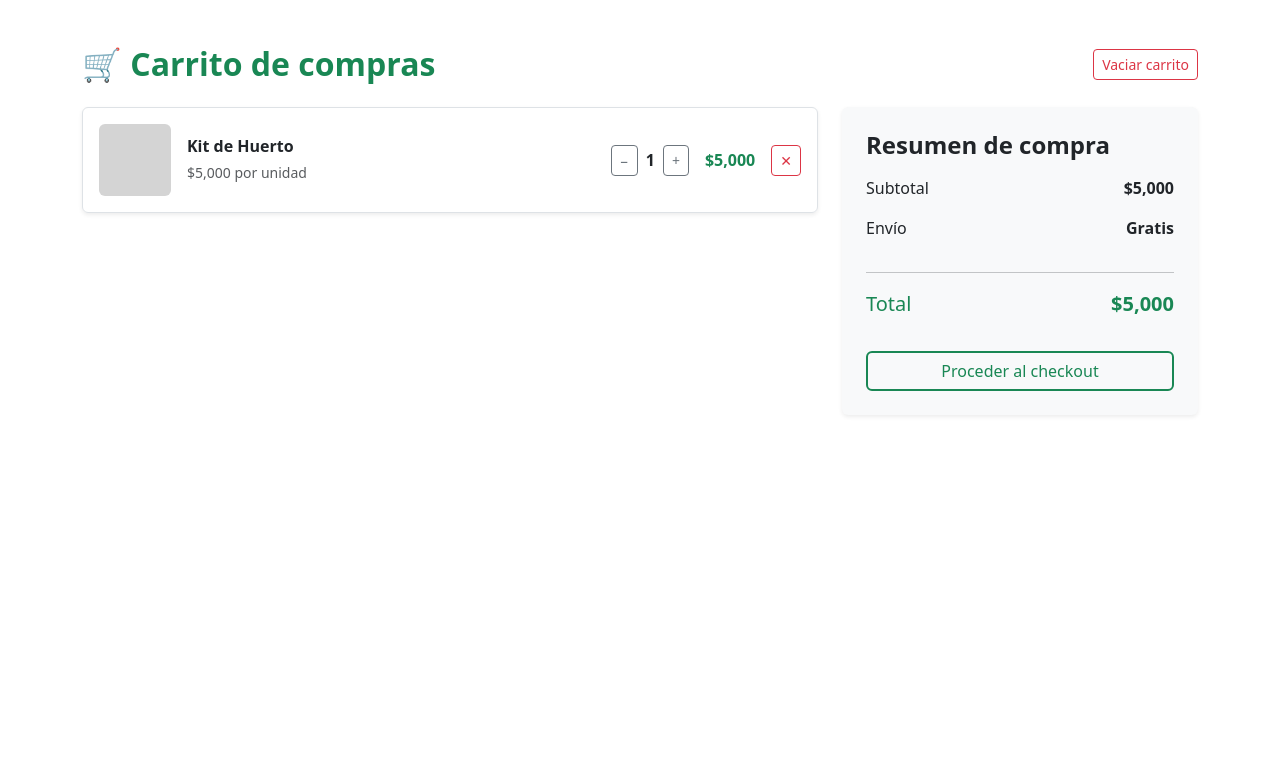
Scenario: Carrito › rechaza una entrega programada sin fecha válida: 2000-01-01
The width and height of the screenshot is (1280, 772).
Step 1. Click the button "Proceder al checkout" → (1020, 371), box [866,351,1174,391]
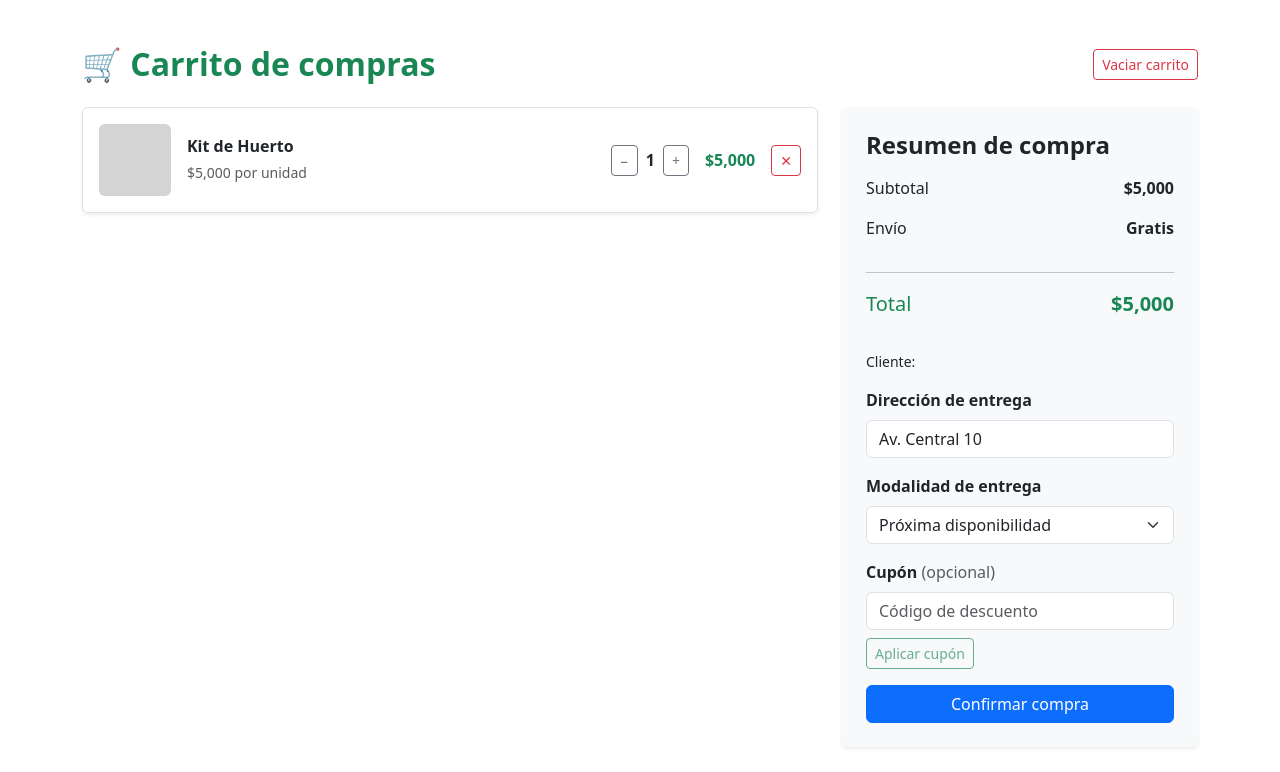
Step 2. Select "Programar entrega" in the dropdown labelled "Modalidad de entrega" → (1020, 525), box [866,506,1174,544]
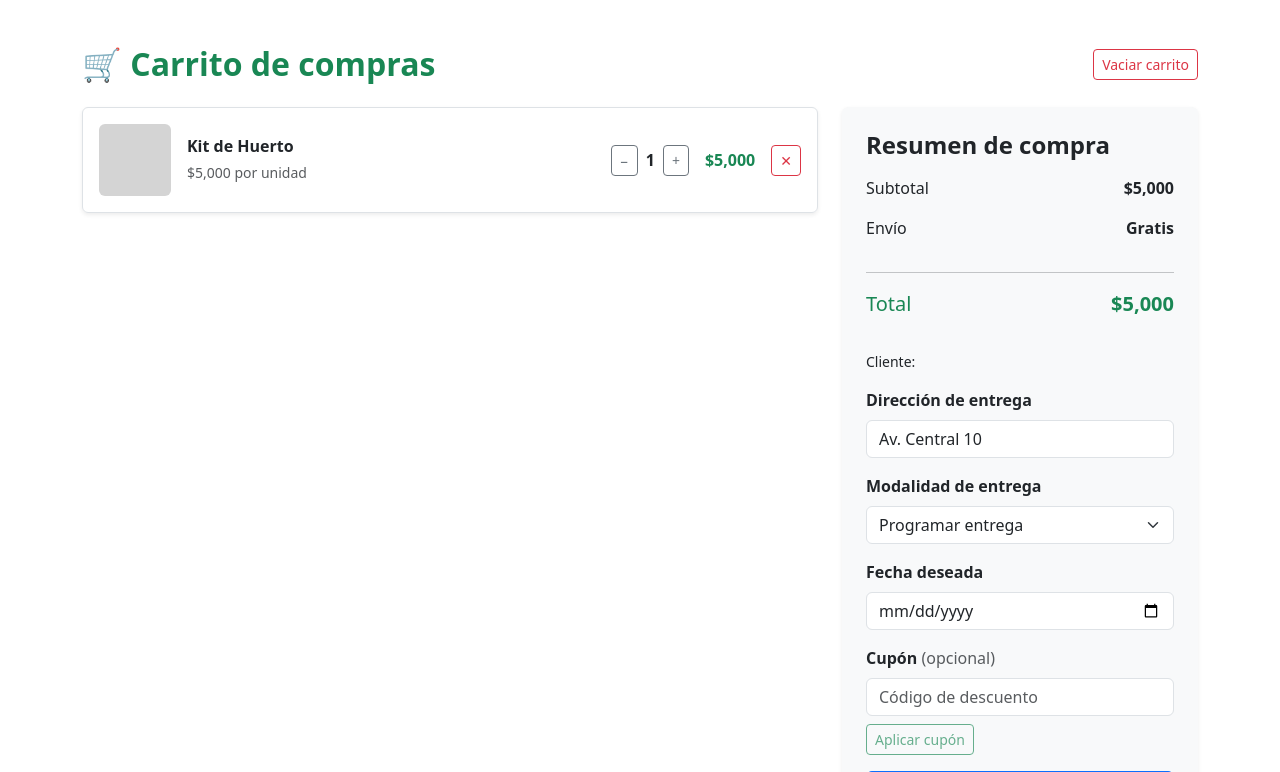
Step 3. Type "2000-01-01" into the date field labelled "Fecha deseada" → (1020, 611), box [866,592,1174,630]
(page scrolled)
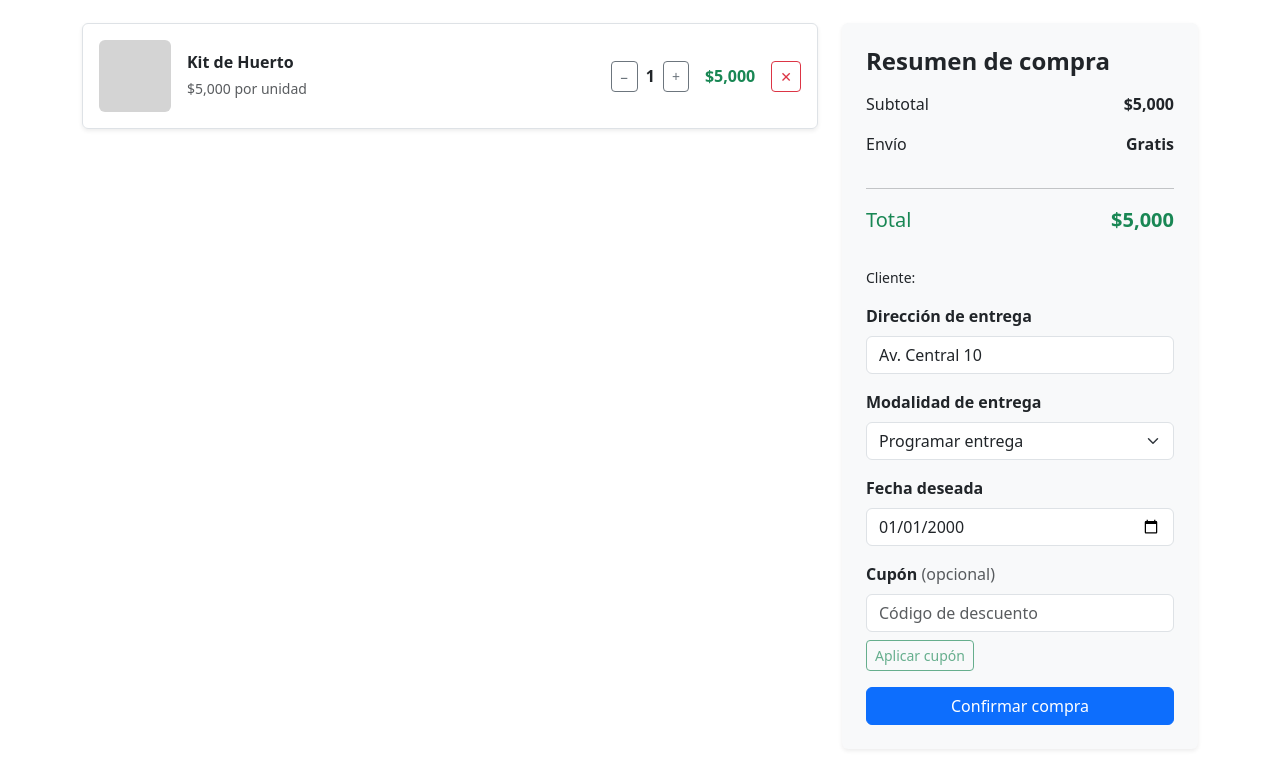
Step 4. Submit the form named "Confirmar compra", box [866,267,1174,725]
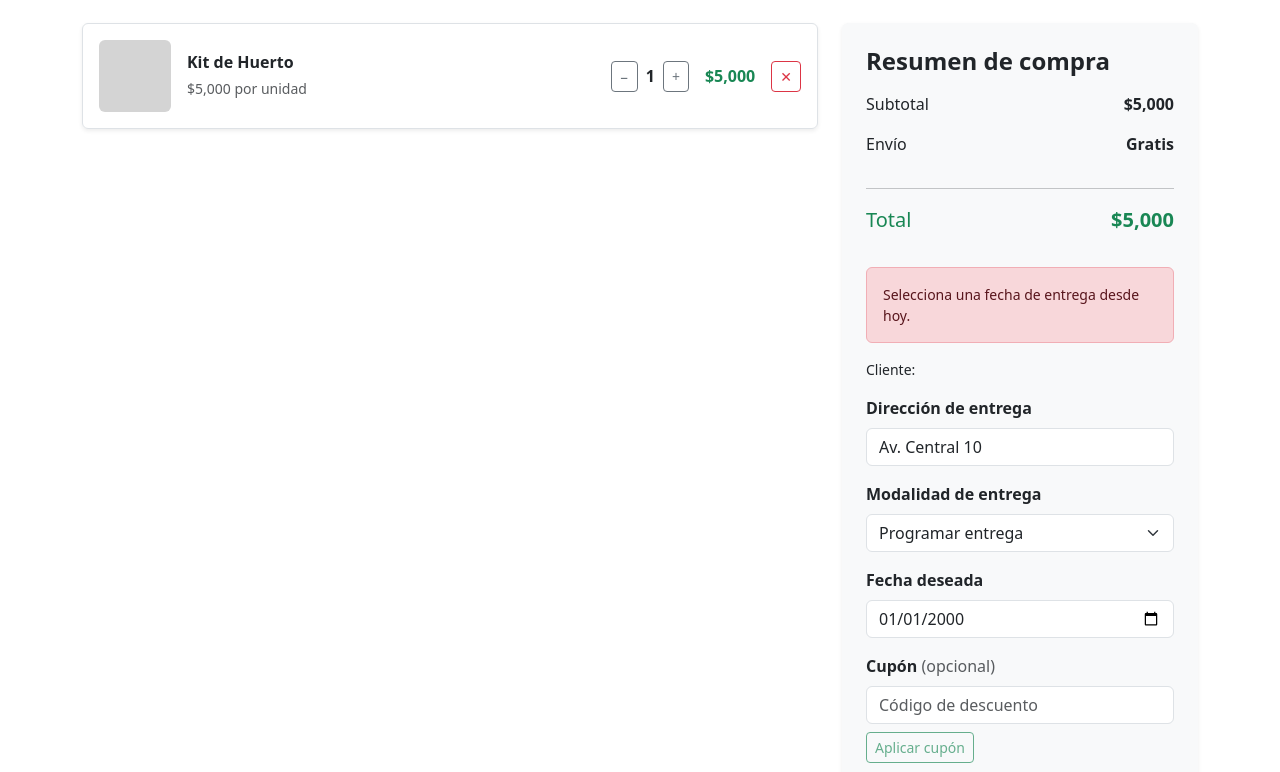
Result: the message reads "Selecciona una fecha de entrega desde hoy." at [883,285,1139,325]
